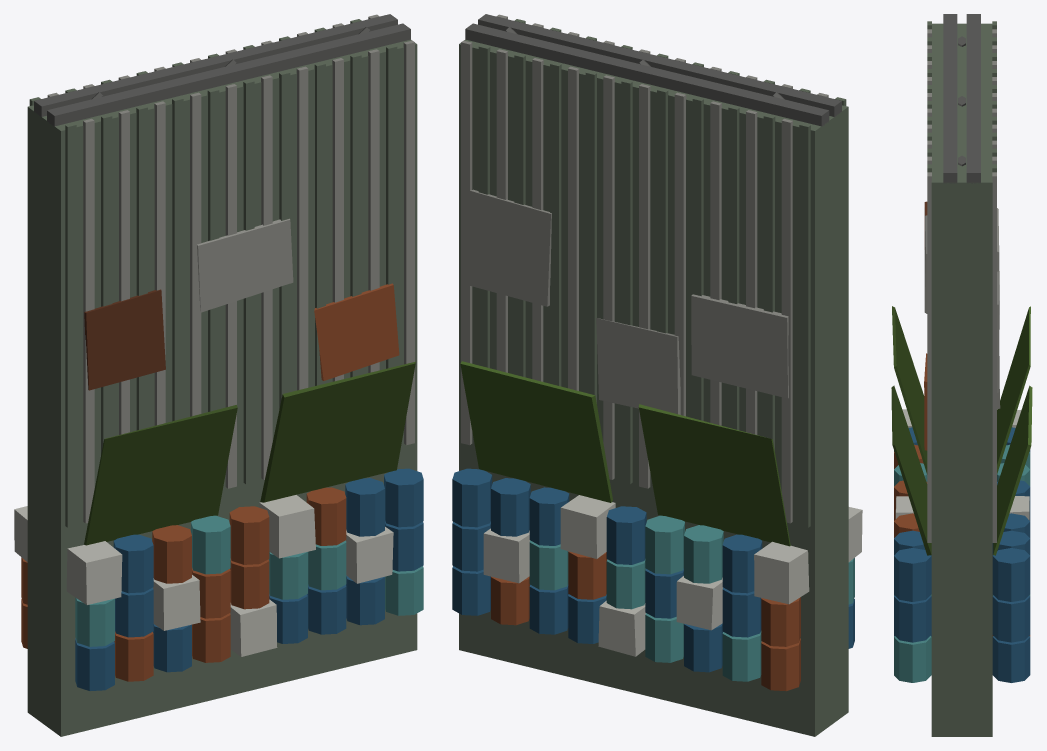
The model's file is fort_cistern_wall.glb.
3 renders of one model, left to right at view 1: azimuth 30°, elevation 25°; view 2: azimuth 150°, elevation 25°; view 3: azimuth 270°, elevation 25°, orthographic. The views are drawn at different scales.
Visible parts, largest first — view 1: fort_cistern_wall; view 2: fort_cistern_wall; view 3: fort_cistern_wall.
Boxes of the visible parts, box(x1,y1,x2,y2) form: fort_cistern_wall: box(14, 14, 423, 736); fort_cistern_wall: box(452, 14, 862, 736); fort_cistern_wall: box(891, 14, 1032, 736).
Bounding box in the file's own units: 8 × 13.28 × 3.
